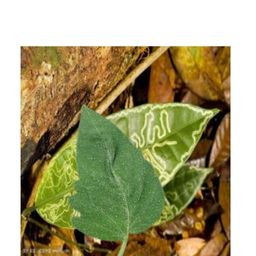liriomyza: (122, 103, 220, 188), (37, 137, 79, 229), (154, 194, 184, 225)
